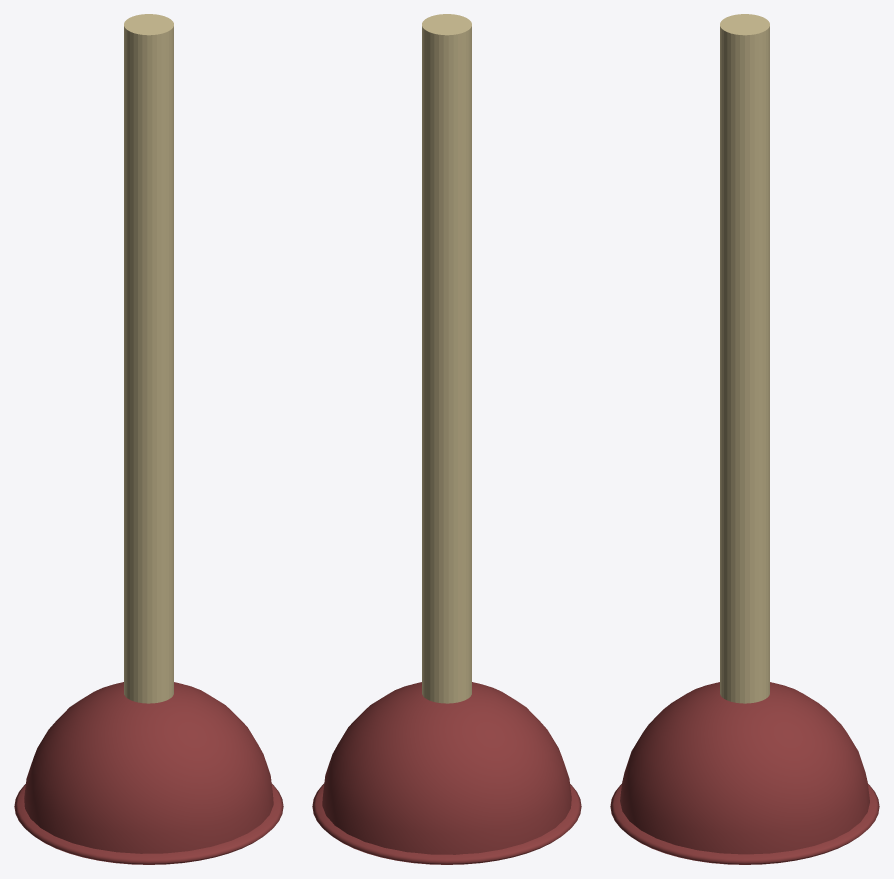
The model's file is Plunger.fbx.
The picture shows the model from 3 angles, left to right: view 1: azimuth 30°, elevation 25°; view 2: azimuth 150°, elevation 25°; view 3: azimuth 270°, elevation 25°; orthographic projection.
Visible parts, largest first — view 1: Cylinder, Sphere, Torus; view 2: Cylinder, Sphere, Torus; view 3: Cylinder, Sphere, Torus.
Boxes of the visible parts, x1,y1,x2,y2 form: Cylinder: (124,14,173,703); Sphere: (24,682,273,853); Torus: (14,783,283,864); Cylinder: (422,14,471,703); Sphere: (322,682,571,854); Torus: (312,783,581,864); Cylinder: (720,14,769,703); Sphere: (620,682,869,854); Torus: (610,784,879,864).
Size of the model in its own units: 1.07 by 3.46 by 1.07.
